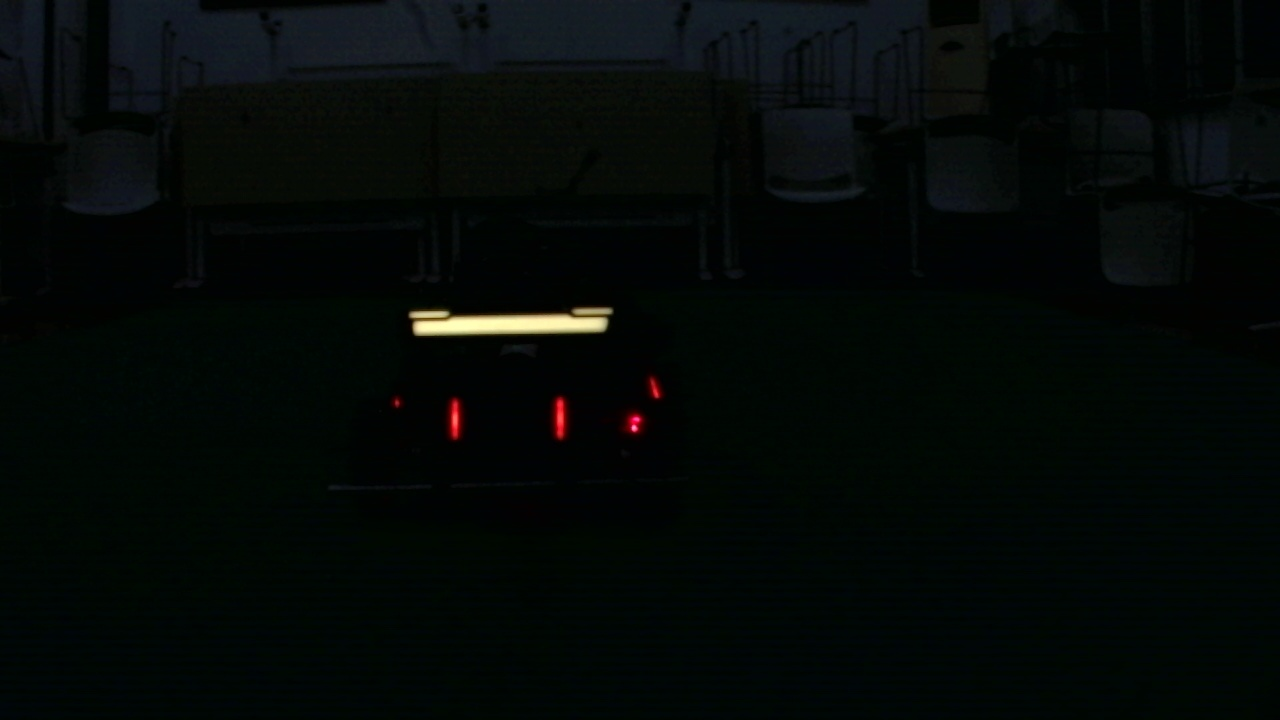lamp: (449, 397, 462, 441), (553, 400, 566, 440)
pair1: (449, 402, 567, 436)
